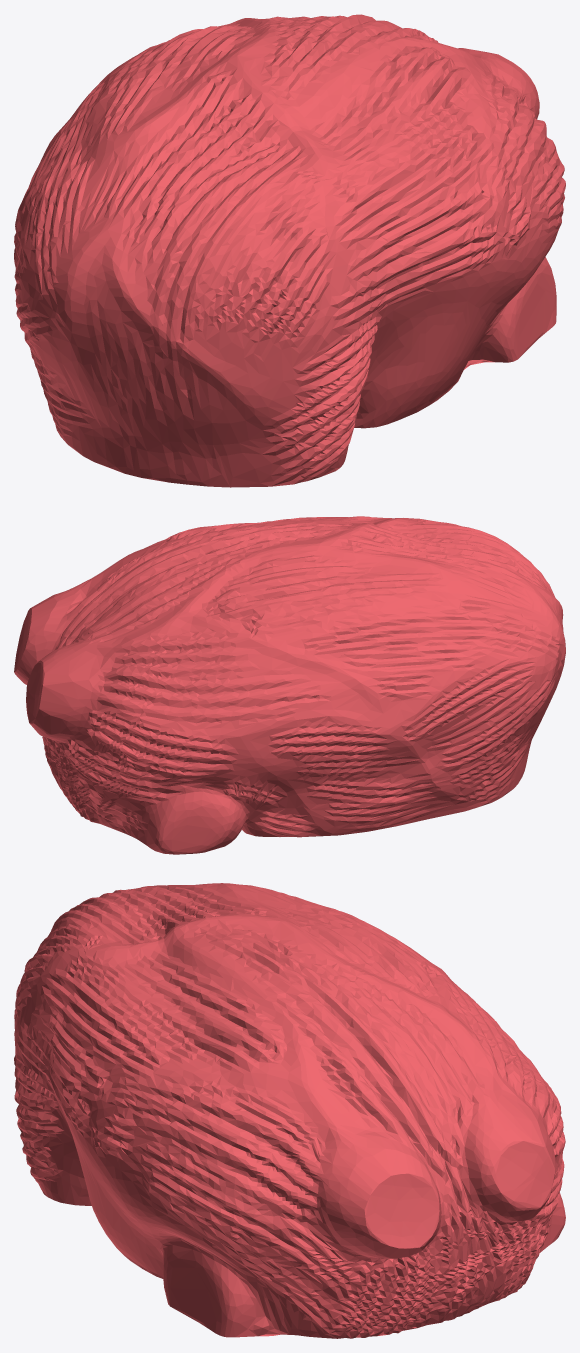
File: frog_heart.glb
The picture shows the model from 3 angles, top to bottom: view 1: azimuth 30°, elevation 25°; view 2: azimuth 150°, elevation 25°; view 3: azimuth 270°, elevation 25°; orthographic projection. The views are drawn at different scales.
Parts seen in each view (by area): view 1: frog_heart; view 2: frog_heart; view 3: frog_heart.
Boxes of the visible parts, x1,y1,x2,y2 form: frog_heart: [14, 14, 565, 487]; frog_heart: [14, 516, 565, 854]; frog_heart: [14, 883, 565, 1338].
Bounding box in the file's own units: 1.5 × 0.7437 × 1.3.
